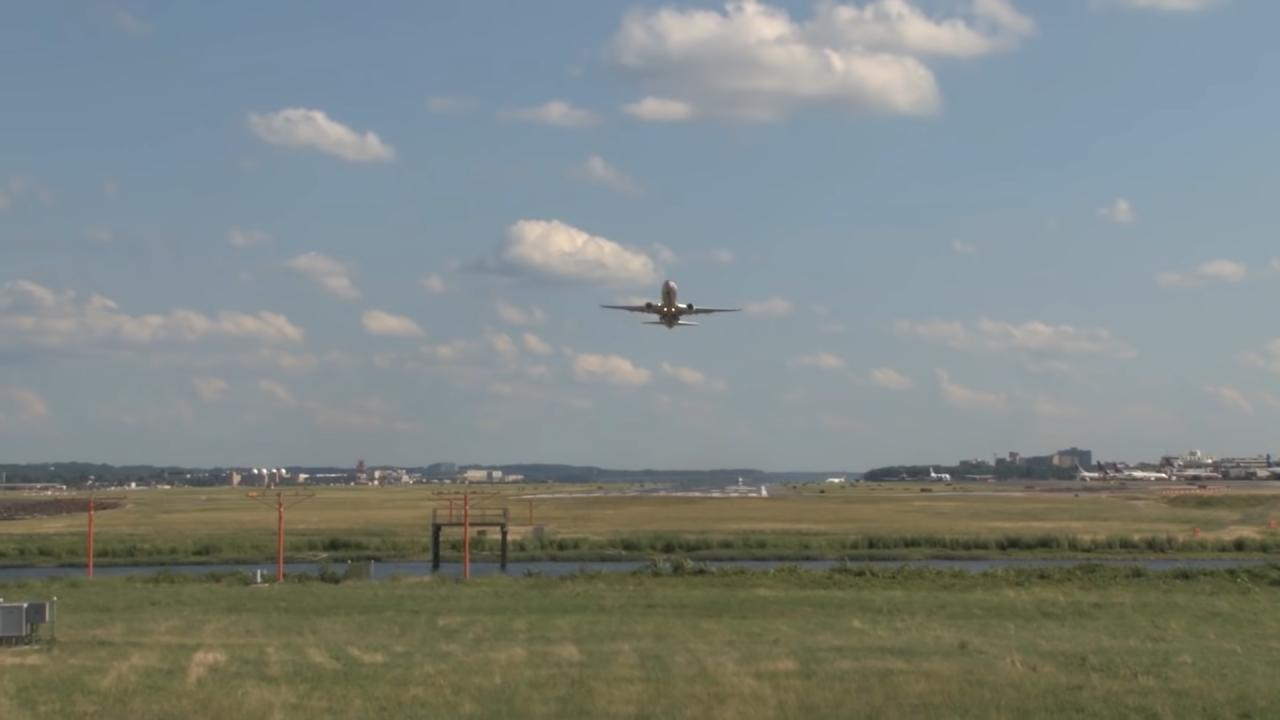Airplane: (591, 268, 750, 342)
